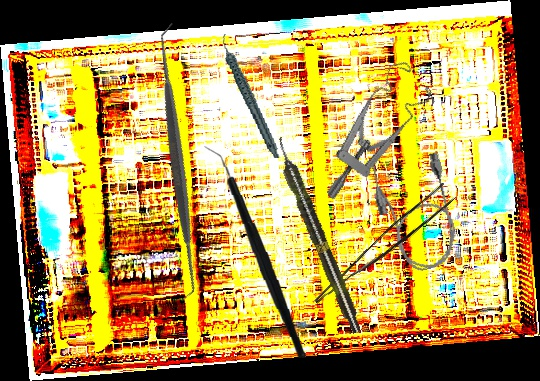Cannula: (366, 144, 465, 278)
Chopper: (201, 142, 308, 362)
Handpiece: (270, 134, 366, 336), (219, 27, 281, 165)
Spatula Surgical: (37, 21, 319, 302)
Speculum: (287, 54, 453, 201)
Tissue Forceps: (313, 178, 458, 319)
